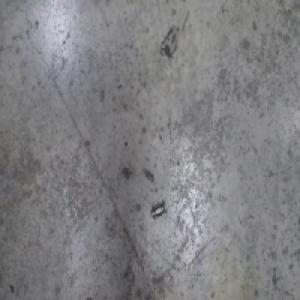Bolt: (149, 199, 166, 219)
